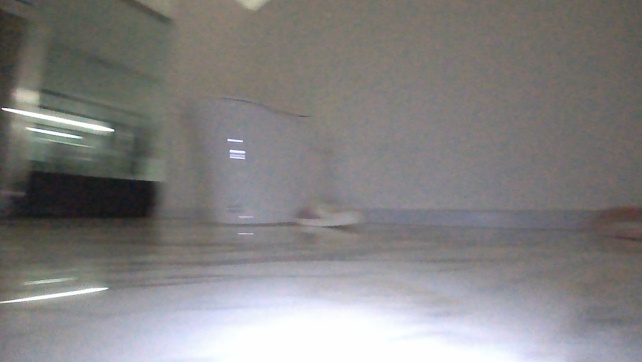shoe: (289, 193, 365, 229)
toilet: (179, 85, 325, 230)
